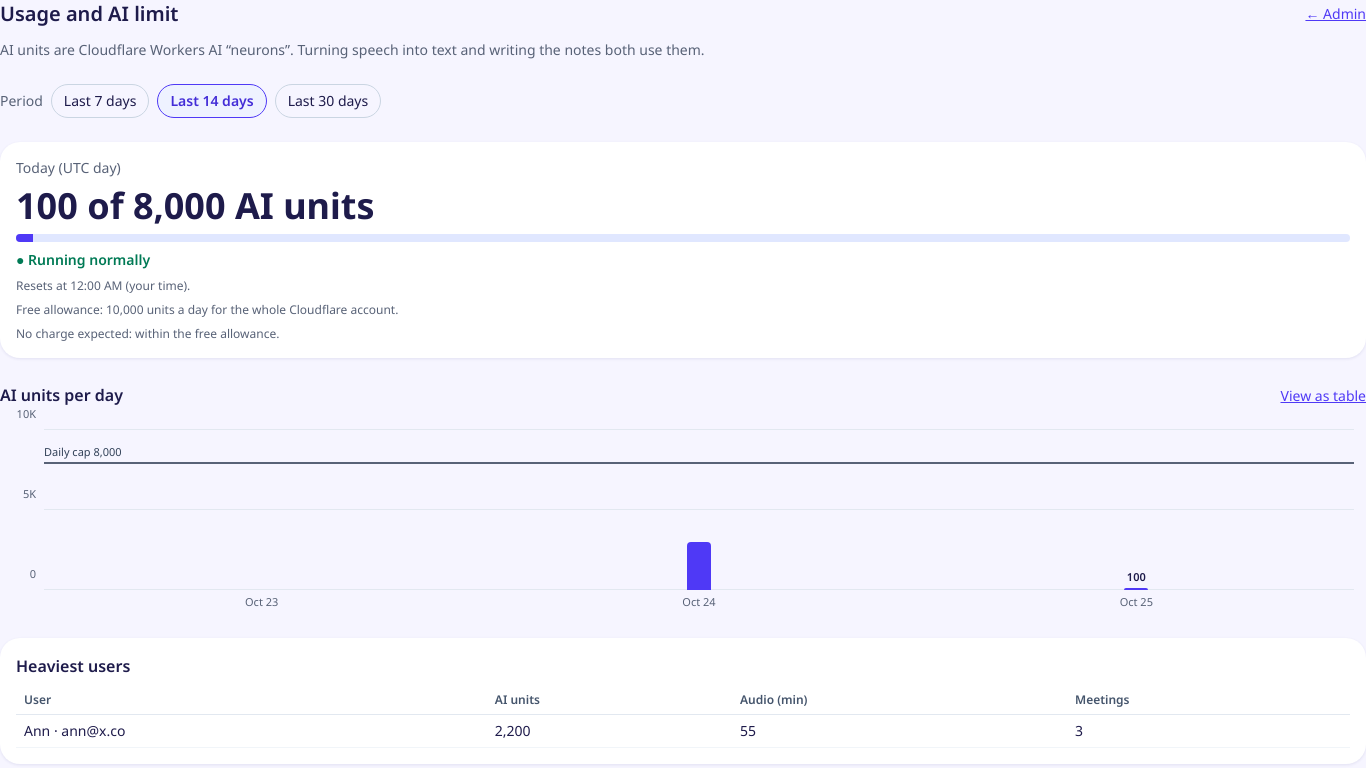
AdminUsage › lists the heaviest users and has the table twin of the chart
Expected: the text "Ann · ann@x.co" is shown, [16,714,487,748]
Expected: the text "2,200" is shown, [487,714,732,748]
Click the button "View as table": (1323, 396) [1280,382,1365,410]
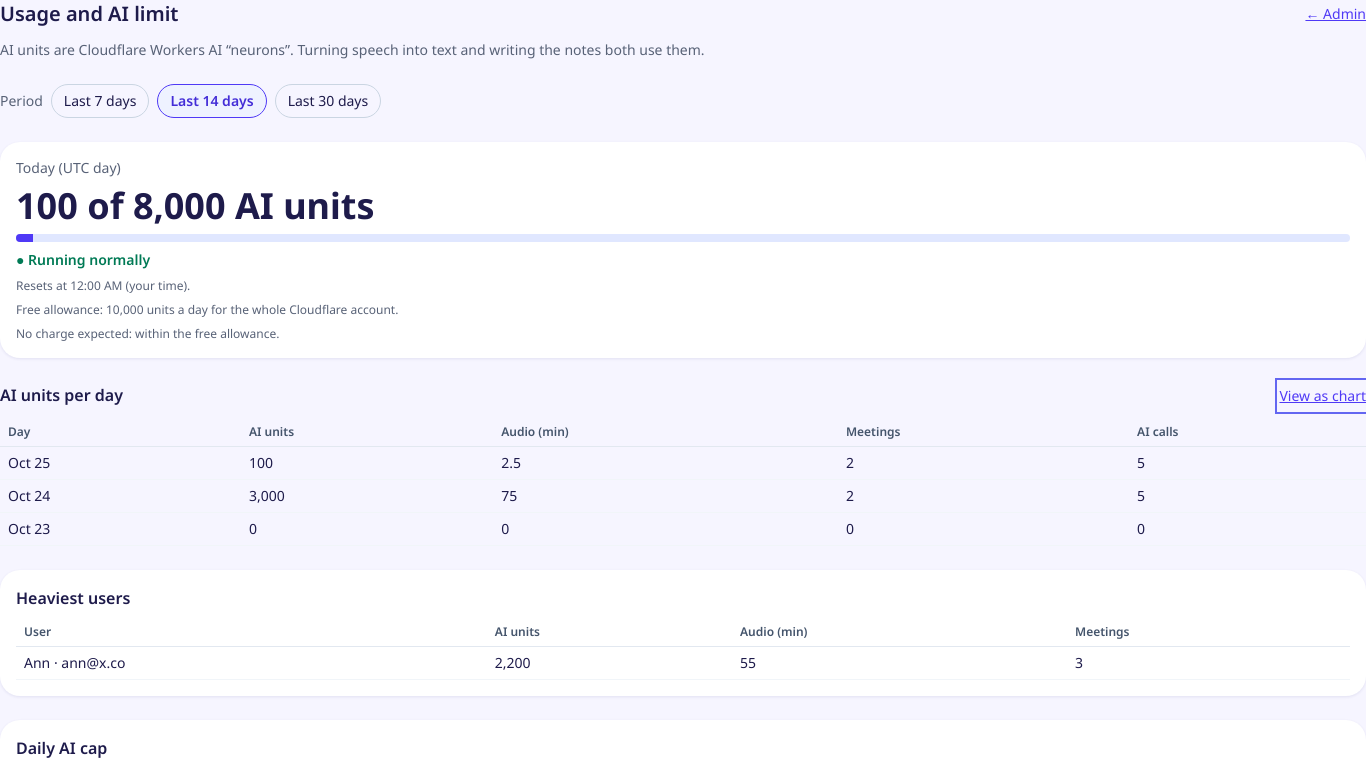
Expected: the table named "AI units per day" is shown, [0,418,1365,546]
